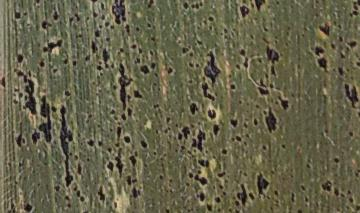tarspot: (57, 100, 76, 183), (12, 63, 39, 119), (115, 61, 134, 109), (201, 49, 222, 87), (38, 93, 52, 147), (263, 43, 284, 77), (109, 1, 131, 33), (342, 80, 360, 115), (254, 171, 275, 198), (42, 34, 65, 54), (263, 107, 279, 135), (199, 83, 219, 104), (235, 180, 247, 212), (316, 17, 334, 38), (12, 129, 28, 148), (317, 177, 333, 196), (114, 145, 123, 177), (205, 105, 220, 123), (347, 1, 360, 21), (194, 188, 209, 205), (237, 3, 252, 20), (188, 100, 202, 118), (253, 1, 271, 14), (317, 55, 328, 76), (311, 42, 327, 56), (28, 130, 41, 147), (228, 116, 241, 133), (182, 123, 192, 145), (95, 185, 107, 203), (132, 87, 146, 102), (346, 35, 360, 50), (278, 95, 291, 111), (128, 152, 139, 170), (334, 63, 348, 77), (88, 38, 101, 53), (12, 52, 28, 64), (196, 157, 212, 169), (81, 113, 97, 125), (129, 185, 143, 198), (50, 8, 63, 21), (138, 135, 150, 149), (75, 161, 84, 179), (6, 200, 18, 213), (138, 64, 151, 76), (105, 159, 116, 173), (124, 23, 134, 38), (212, 123, 222, 138), (190, 1, 205, 11), (38, 18, 50, 30), (22, 201, 34, 213), (37, 56, 48, 69), (92, 25, 103, 38), (297, 180, 308, 193), (151, 100, 162, 113), (186, 76, 197, 89), (82, 152, 93, 165), (122, 131, 132, 145), (287, 191, 297, 205), (215, 170, 230, 179), (84, 137, 95, 149), (117, 112, 128, 124), (73, 30, 85, 41), (255, 54, 266, 66), (237, 46, 247, 59), (345, 125, 354, 139), (143, 1, 157, 10), (205, 12, 214, 26), (93, 64, 107, 73), (331, 155, 342, 166), (180, 1, 191, 12), (302, 160, 313, 171), (15, 159, 26, 170), (162, 126, 173, 137), (12, 9, 22, 21), (163, 65, 175, 75), (228, 81, 238, 93), (61, 54, 70, 67), (186, 58, 195, 71), (1, 75, 8, 91), (63, 87, 73, 98), (82, 52, 92, 63), (74, 14, 84, 25), (146, 47, 156, 58), (241, 60, 251, 71), (329, 41, 339, 52), (343, 186, 353, 197), (253, 101, 264, 111), (233, 62, 245, 71), (5, 158, 13, 171), (52, 182, 62, 192), (72, 151, 82, 161), (279, 141, 289, 151), (220, 146, 230, 156), (259, 142, 269, 152), (66, 16, 75, 27), (248, 190, 257, 201), (251, 116, 260, 127), (241, 169, 250, 180), (96, 137, 104, 149), (333, 185, 339, 201), (302, 196, 314, 204), (355, 164, 360, 183), (294, 206, 307, 213), (213, 195, 222, 205), (117, 44, 126, 54), (179, 43, 188, 53), (241, 121, 251, 130), (108, 106, 117, 116), (110, 199, 120, 208), (217, 181, 226, 191), (108, 125, 117, 135), (76, 194, 87, 202), (193, 38, 204, 46), (261, 25, 272, 33), (162, 205, 173, 213), (186, 171, 194, 182), (337, 51, 348, 59), (145, 20, 153, 31), (176, 130, 183, 142), (81, 204, 90, 213), (105, 146, 114, 155), (103, 35, 112, 44), (234, 134, 243, 143), (150, 79, 159, 88), (70, 58, 78, 68), (129, 42, 139, 50), (236, 98, 246, 106), (148, 35, 158, 43), (194, 61, 201, 72), (355, 57, 360, 72), (90, 10, 99, 18), (273, 188, 281, 197), (133, 55, 141, 64), (125, 108, 134, 116), (21, 8, 29, 17), (153, 128, 161, 137), (335, 22, 343, 31), (62, 193, 72, 200), (100, 2, 107, 12), (163, 116, 173, 123), (145, 61, 156, 67), (51, 66, 59, 74), (65, 201, 73, 209), (71, 184, 79, 192), (50, 104, 58, 112), (103, 19, 111, 27), (134, 25, 142, 33), (211, 183, 218, 192), (322, 126, 328, 136), (75, 190, 82, 198), (158, 173, 165, 181), (336, 34, 344, 41), (221, 26, 229, 33), (248, 33, 255, 41), (354, 204, 360, 213), (272, 1, 282, 6), (150, 150, 158, 156), (349, 196, 355, 204), (311, 1, 322, 5), (340, 192, 346, 199), (89, 1, 98, 5), (33, 1, 42, 4)
